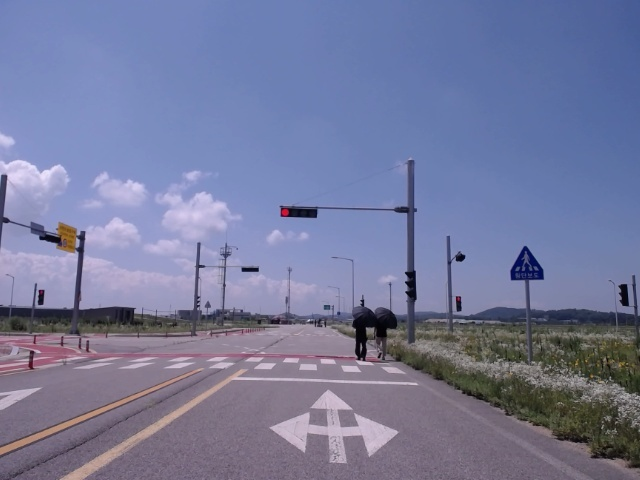red_4: (281, 208, 317, 218)
